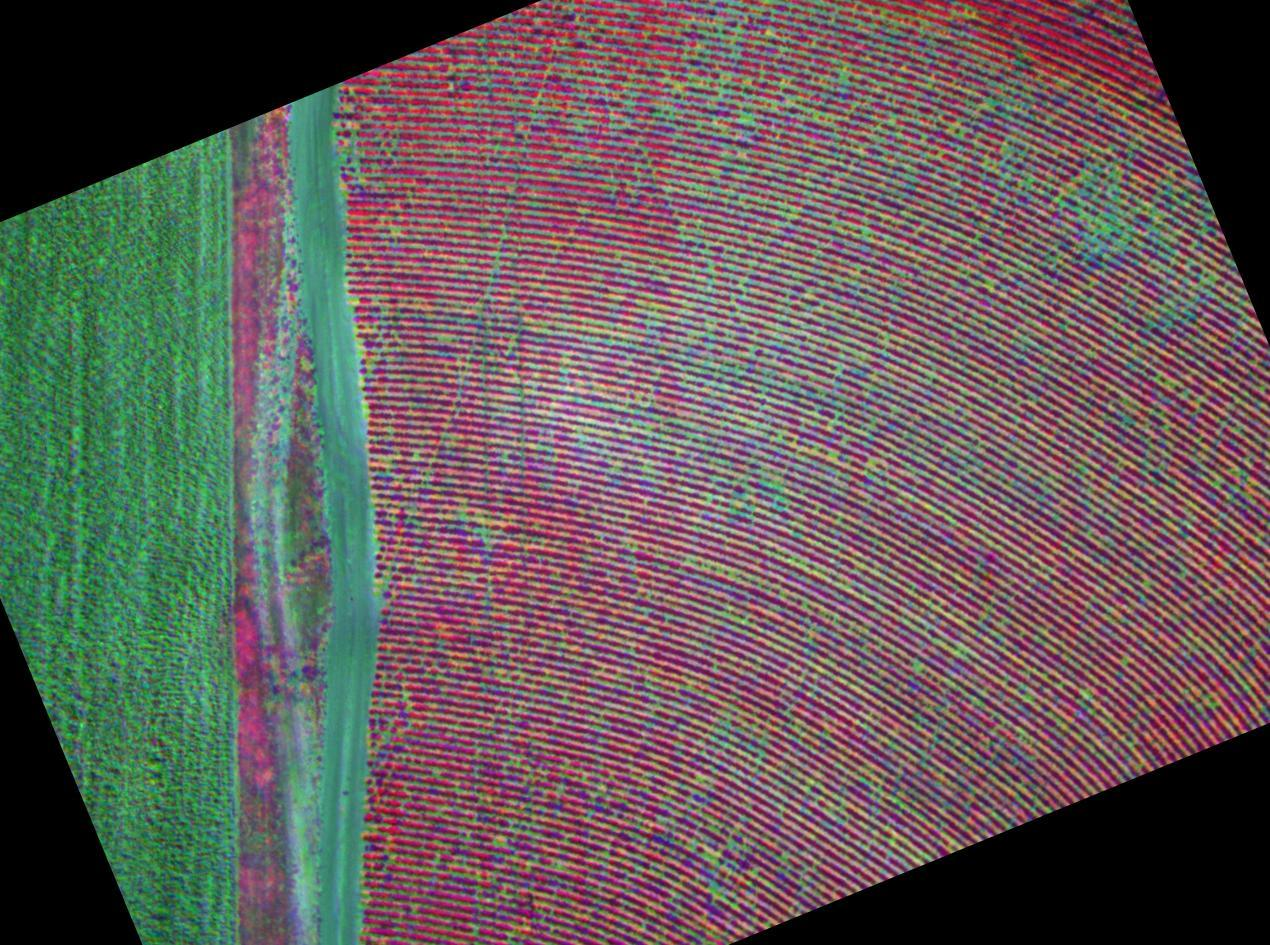dc: (743, 116, 752, 123), (986, 102, 992, 109), (774, 496, 779, 500), (433, 773, 437, 778), (857, 265, 861, 269), (462, 514, 466, 518), (482, 530, 486, 534), (725, 613, 729, 617), (518, 679, 522, 683), (600, 785, 604, 789), (557, 866, 561, 870), (731, 572, 734, 577), (435, 841, 439, 844), (435, 859, 438, 863), (404, 697, 407, 700), (502, 892, 505, 894)
